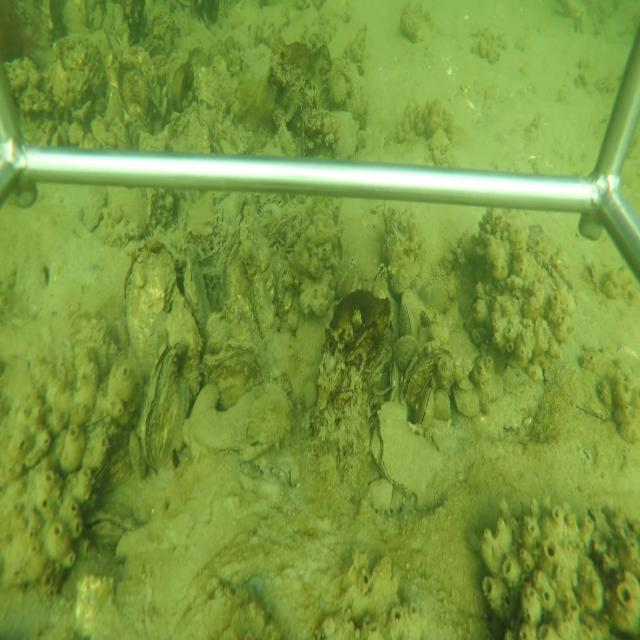Oyster-Closed: (375, 401, 452, 511), (187, 380, 294, 453), (124, 243, 174, 374), (142, 344, 190, 474), (168, 282, 205, 391), (402, 346, 448, 405), (308, 109, 360, 159), (204, 340, 261, 381), (248, 263, 276, 341), (183, 248, 210, 324), (391, 261, 422, 298), (89, 450, 112, 492), (400, 292, 418, 334), (419, 385, 435, 426)
Oyster-Open: (84, 507, 132, 544)
